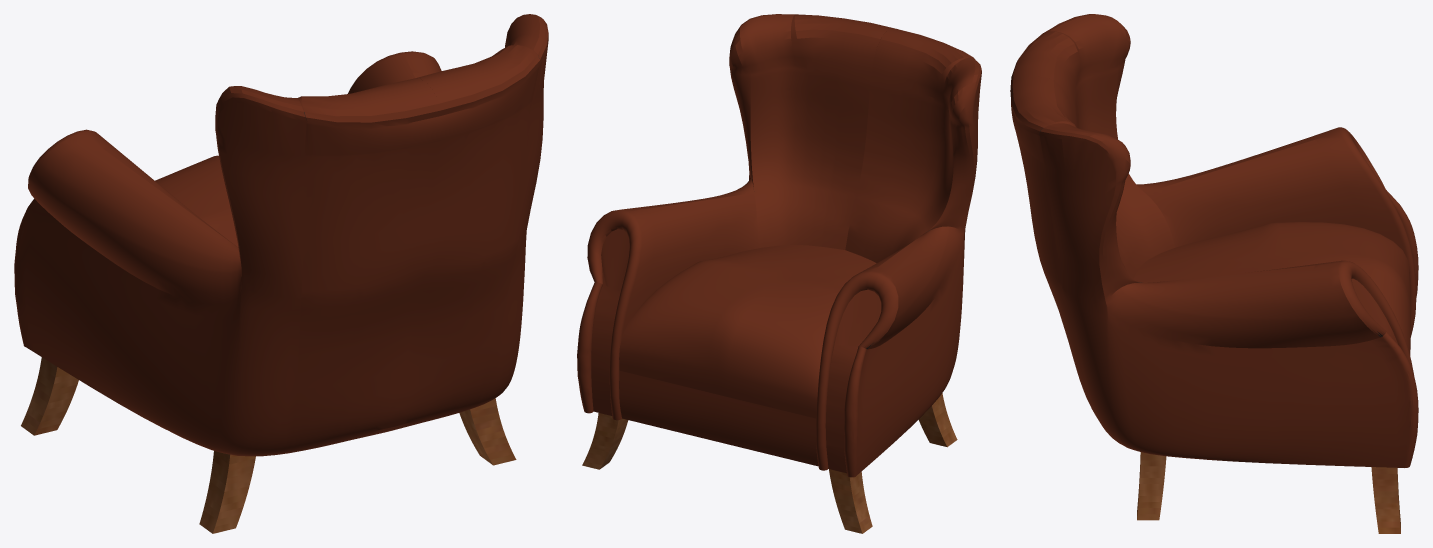
The model's file is armchair 4.fbx.
The picture shows the model from 3 angles, left to right: view 1: azimuth 30°, elevation 25°; view 2: azimuth 150°, elevation 25°; view 3: azimuth 270°, elevation 25°; orthographic projection. The views are drawn at different scales.
Parts seen in each view (by area): view 1: Group1; view 2: Group1; view 3: Group1.
Boxes of the visible parts, x1,y1,x2,y2 form: Group1: (14, 14, 548, 533); Group1: (577, 14, 981, 533); Group1: (1010, 14, 1418, 533).
Size of the model in its own units: 38.79 by 42.23 by 40.62.
